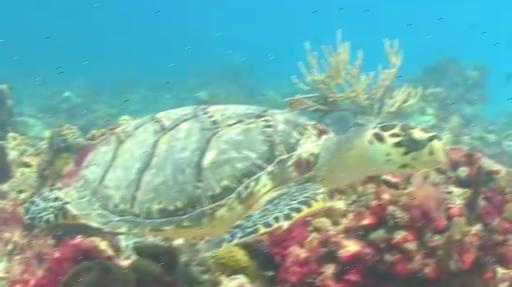Fish: (23, 105, 445, 250)
